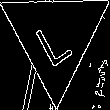L_NW: (32, 7, 79, 67)
